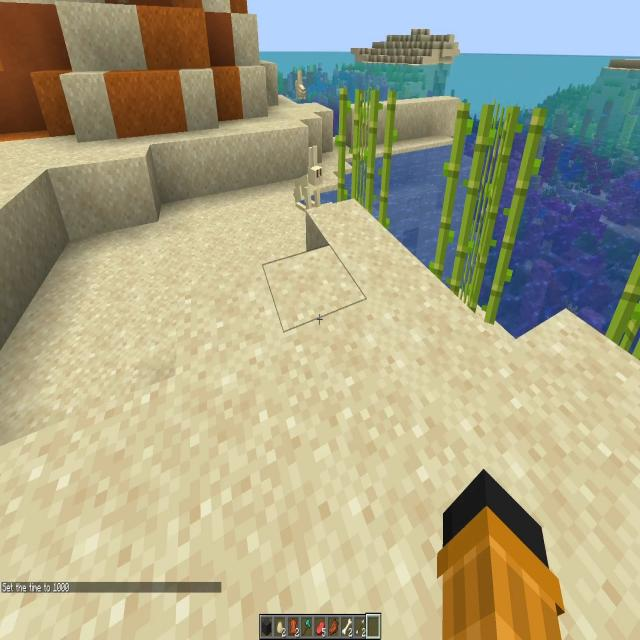Rabbit: (292, 153, 321, 214), (295, 76, 306, 99)
